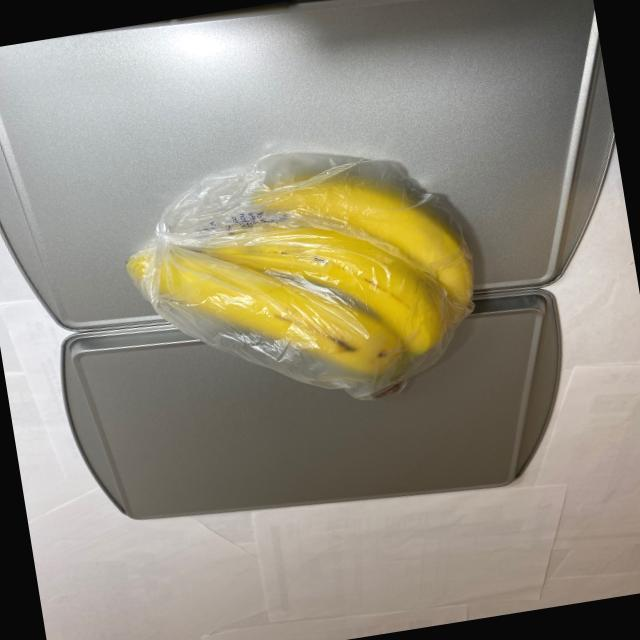banana: (106, 134, 498, 436)
